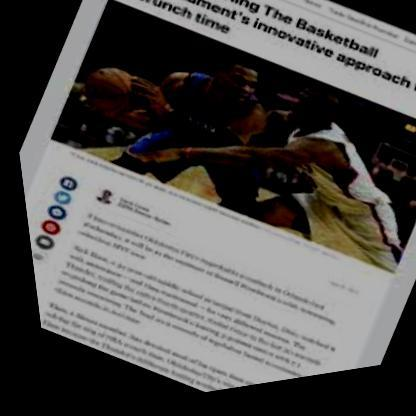basketball: (71, 56, 147, 130)
